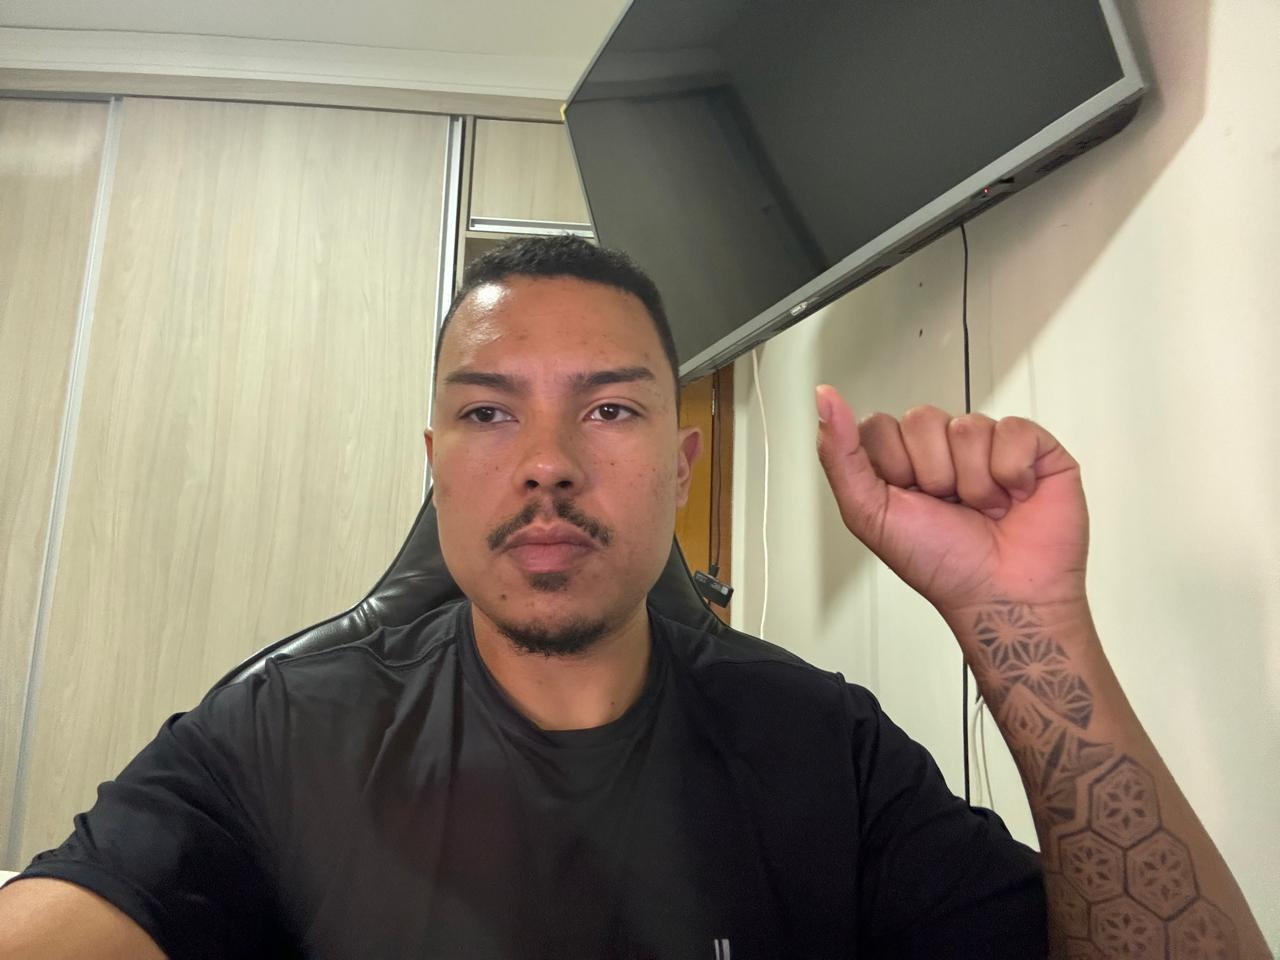a: (810, 371, 1099, 605)
